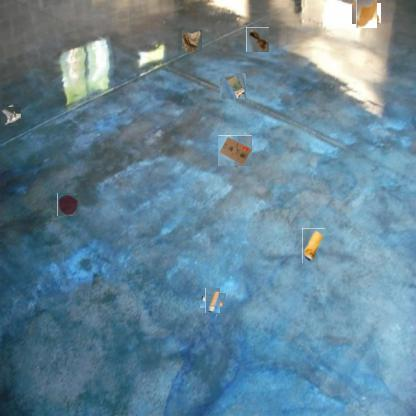dirty: (219, 135, 252, 167), (302, 228, 325, 263), (221, 74, 246, 98), (246, 27, 269, 52), (182, 30, 202, 52), (203, 290, 223, 311), (1, 106, 20, 124)
liquid: (354, 1, 379, 26), (57, 192, 78, 216)
